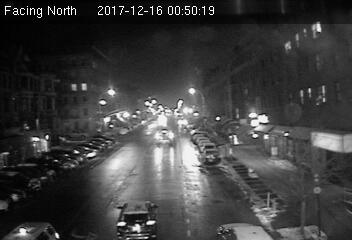car: (116, 200, 161, 239), (215, 220, 277, 240), (154, 127, 175, 145), (202, 148, 219, 163)
